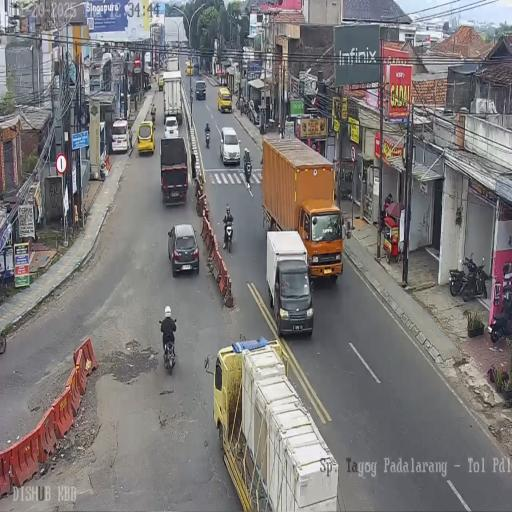car: (272, 258, 314, 337), (167, 223, 199, 277), (219, 126, 241, 166), (110, 119, 130, 154), (137, 120, 156, 154), (217, 87, 232, 114), (247, 99, 260, 124), (164, 116, 178, 139), (195, 80, 206, 100), (185, 61, 193, 75), (158, 74, 164, 90)
motorcycle: (459, 255, 488, 302), (490, 290, 512, 342), (162, 329, 176, 372), (223, 216, 234, 252), (242, 98, 249, 117), (204, 127, 210, 148)
truck: (213, 337, 329, 511), (264, 135, 338, 282), (160, 136, 188, 206), (167, 55, 179, 73)
